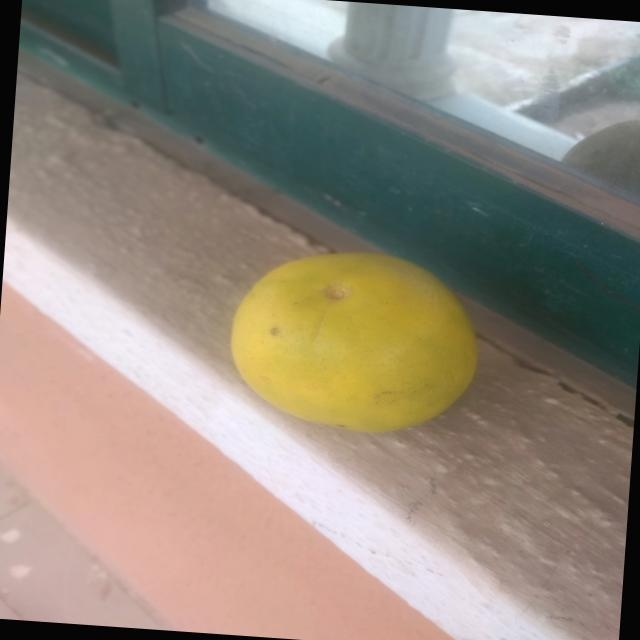agrume: (212, 233, 492, 447)
